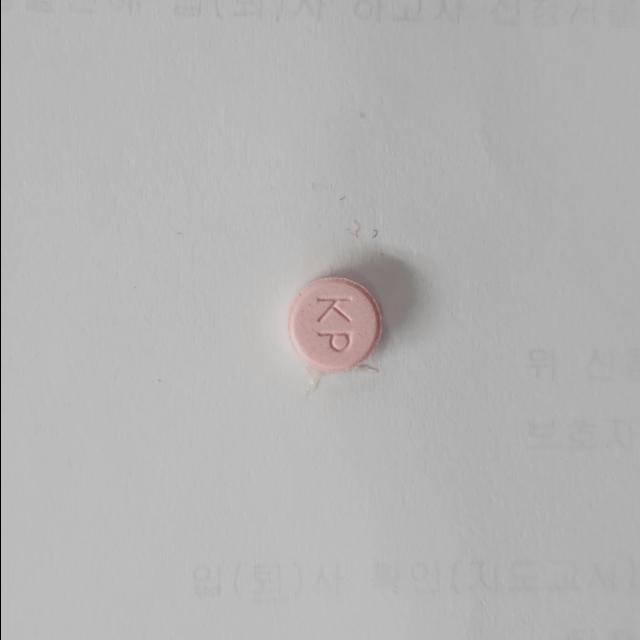pill: (278, 268, 388, 378)
